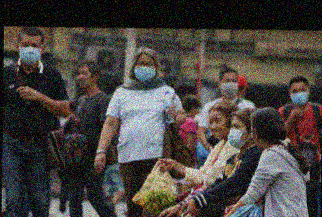with_mask: (17, 39, 41, 67), (226, 121, 246, 151), (131, 59, 155, 82), (218, 77, 238, 98), (288, 87, 308, 107)
without_mask: (206, 116, 229, 139), (75, 68, 94, 88)
